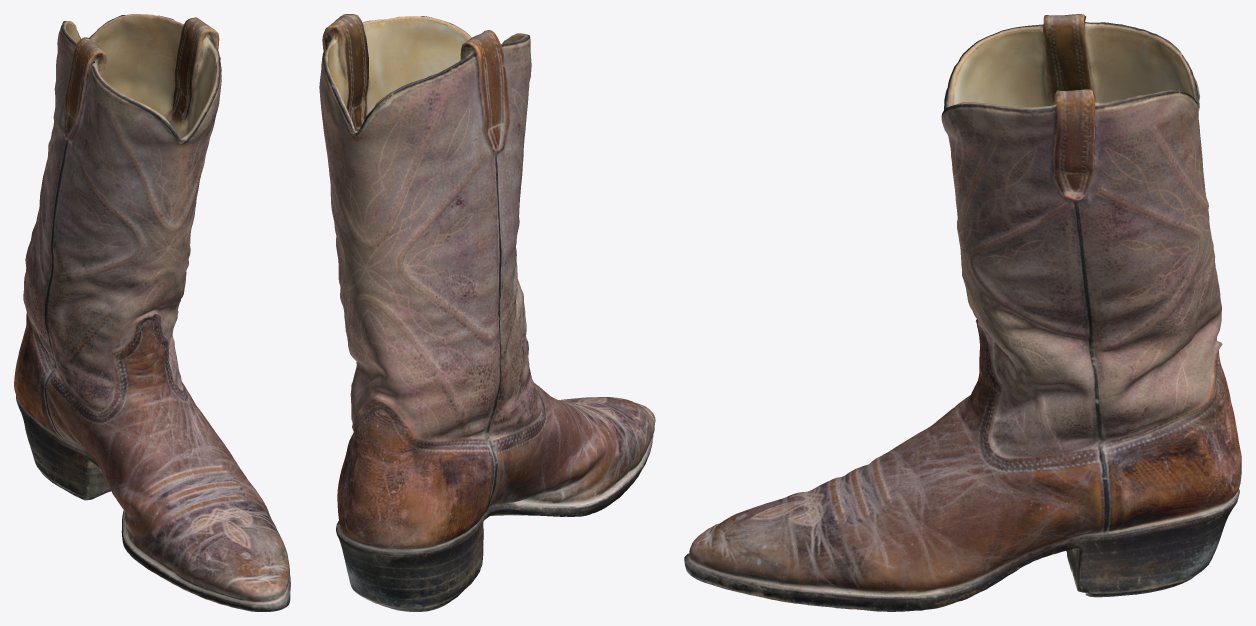
The model's file is oldboot.glb.
3 renders of one model, left to right at view 1: azimuth 30°, elevation 25°; view 2: azimuth 150°, elevation 25°; view 3: azimuth 270°, elevation 25°, orthographic. The views are drawn at different scales.
Visible parts, largest first — view 1: Object_2; view 2: Object_2; view 3: Object_2.
Part boxes in pixels (<box>): Object_2: <box>14,14,290,611</box>; Object_2: <box>319,14,655,611</box>; Object_2: <box>684,14,1241,611</box>.
Size of the model in its own units: 1.63 by 4.56 by 4.23.
Materials: 1 (1 with a texture image).
